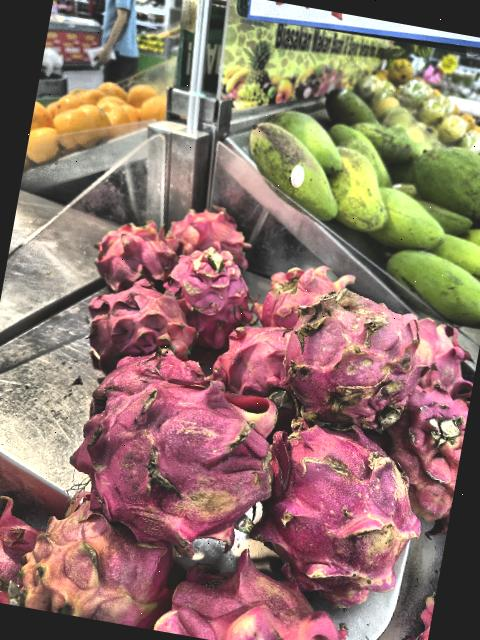buah-naga-belum-matang: (12, 493, 177, 630), (154, 541, 374, 640)
buah-naga-matang: (62, 356, 290, 558), (236, 403, 433, 614), (272, 276, 424, 430), (378, 384, 470, 522), (80, 277, 202, 369), (163, 246, 264, 348), (210, 317, 305, 410), (397, 309, 480, 400), (253, 255, 352, 328), (88, 214, 177, 288), (160, 198, 256, 266), (0, 488, 37, 605)
